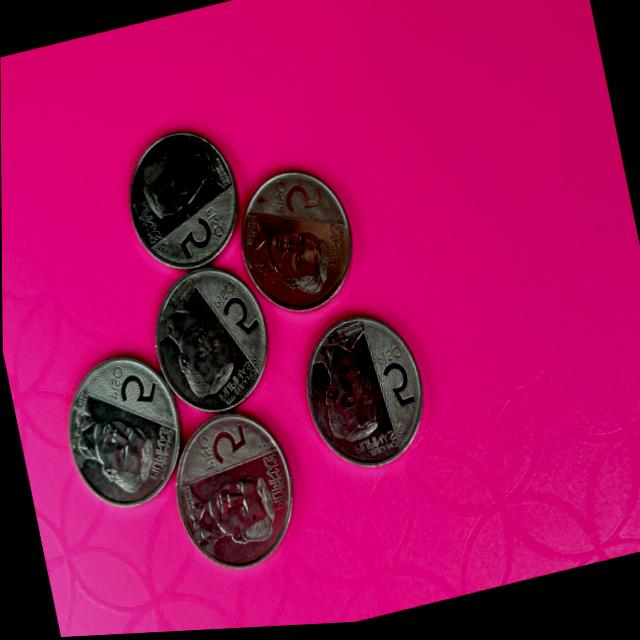5_New_Front: (100, 355, 165, 430), (371, 334, 423, 421), (211, 278, 266, 347), (269, 171, 326, 232), (173, 206, 232, 261), (198, 421, 253, 477)
